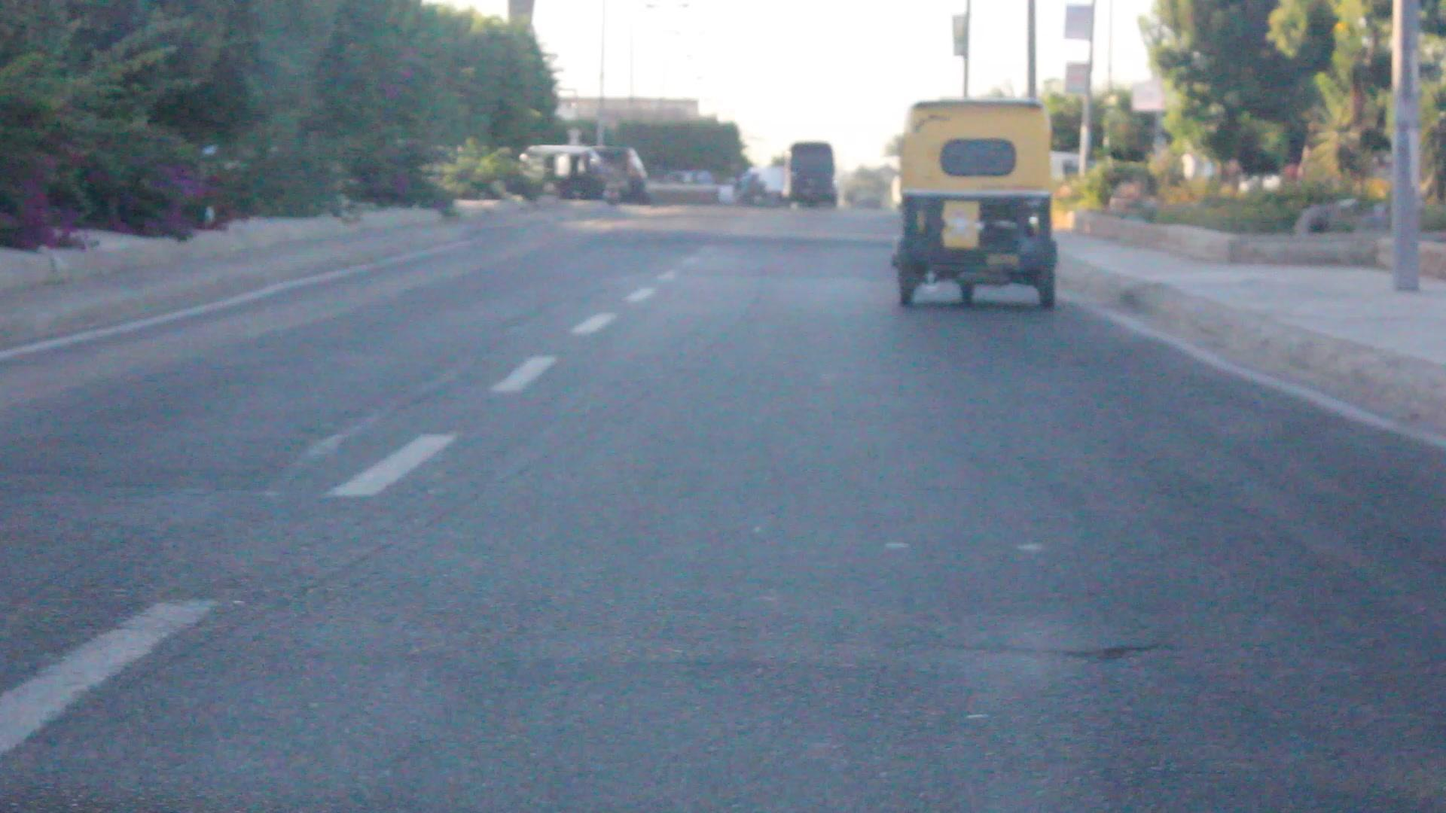Bump: (559, 224, 898, 262)
